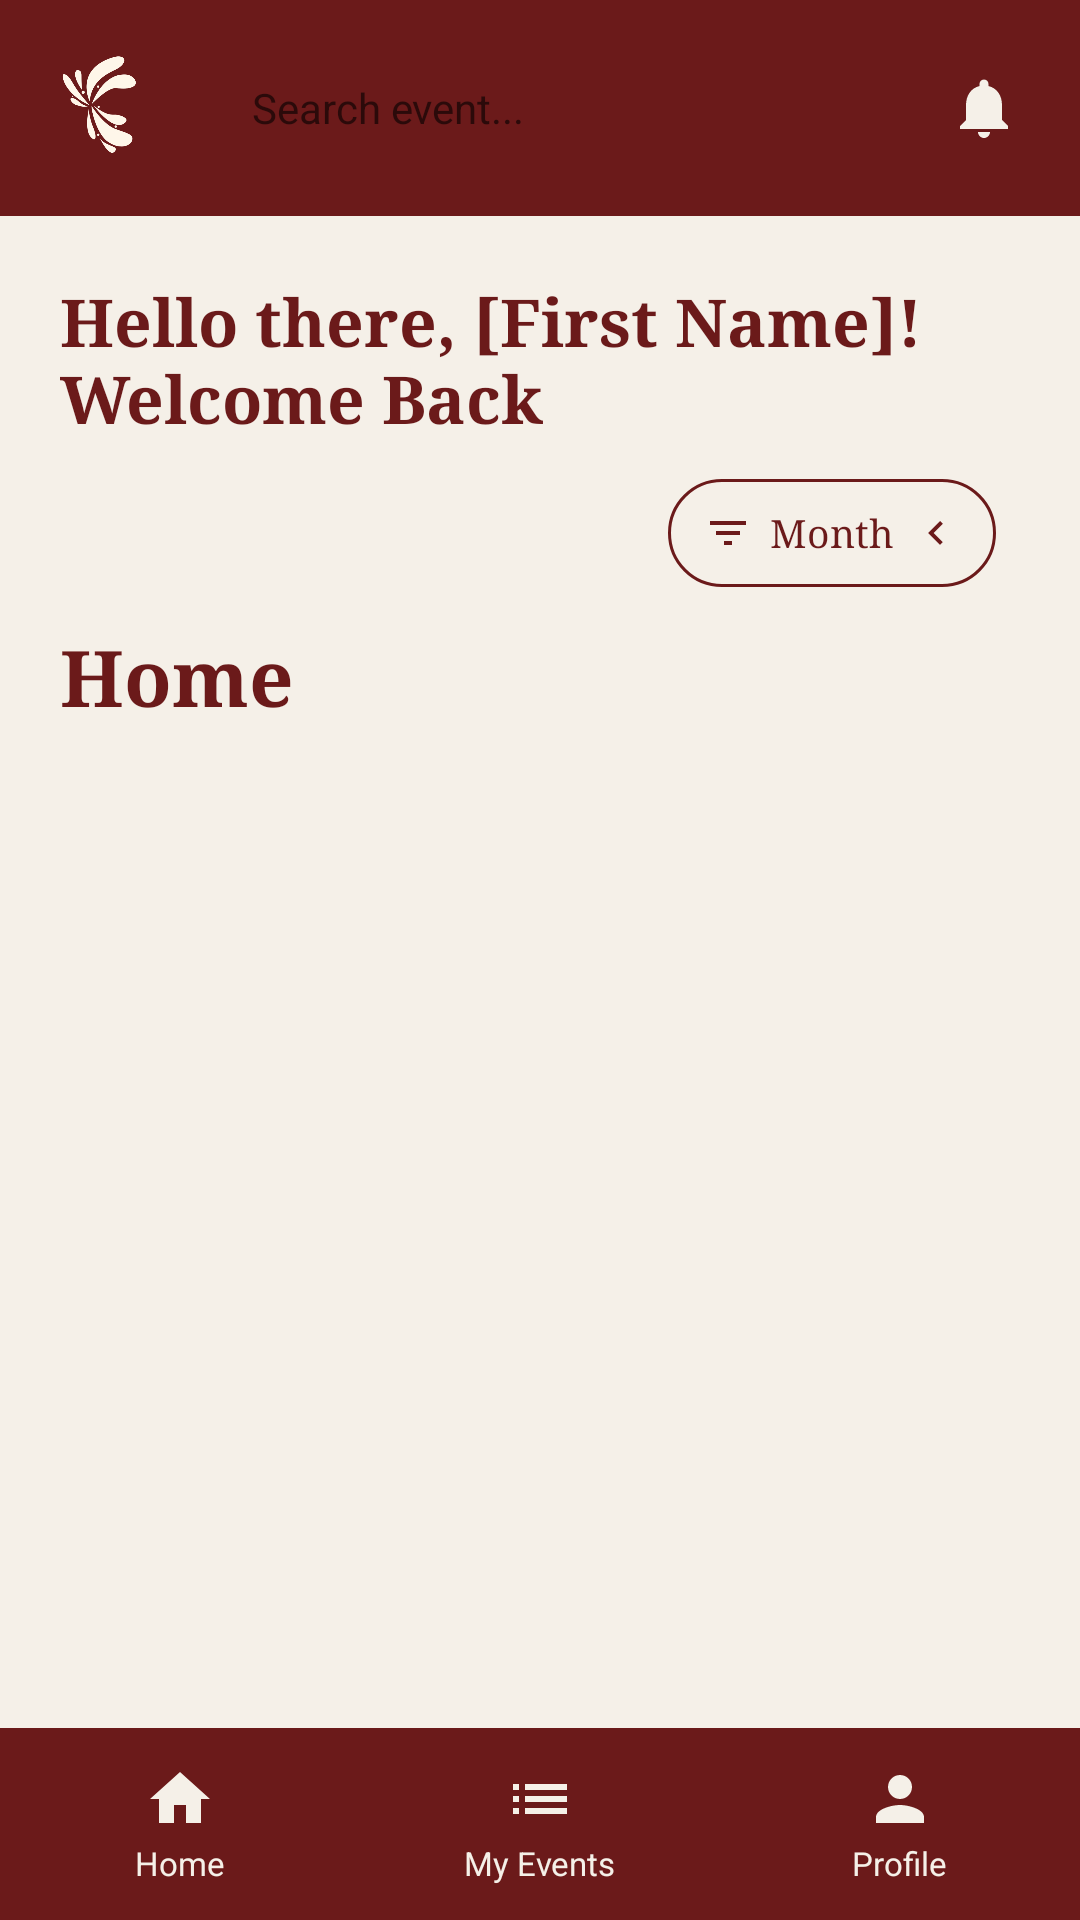

Screen size 1080x1920. Icon name, then its center in pixels as (x,y):
arrow left: (935,533)
bell: (984,108)
filter: (728,533)
